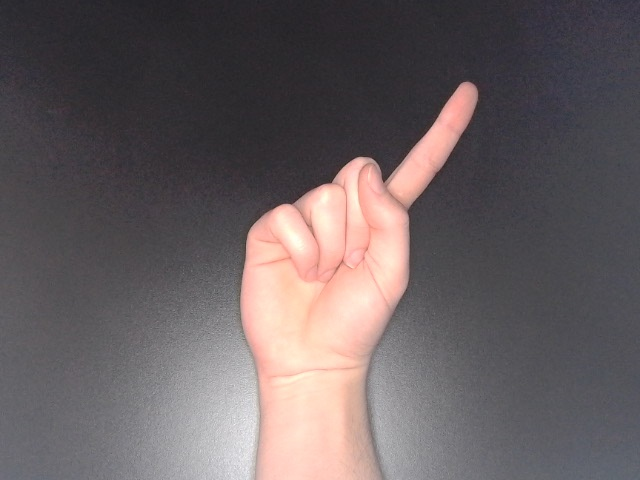z: (232, 77, 485, 416)
